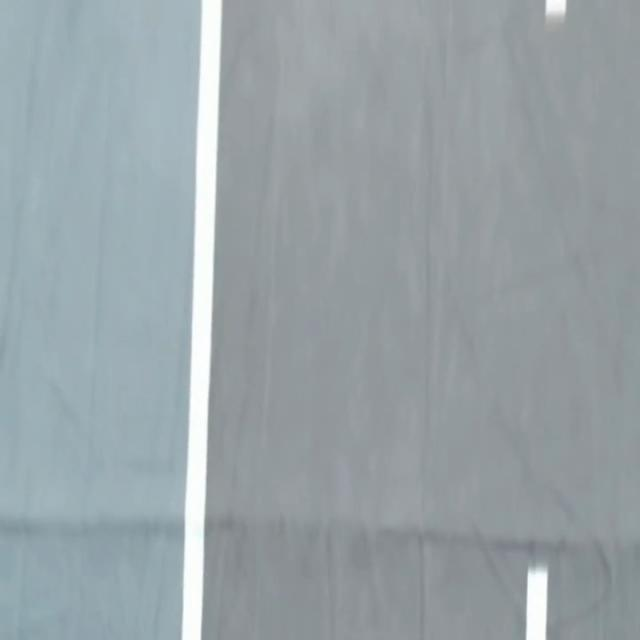center: (525, 565, 546, 639), (545, 0, 565, 17)
left: (181, 0, 220, 639)
